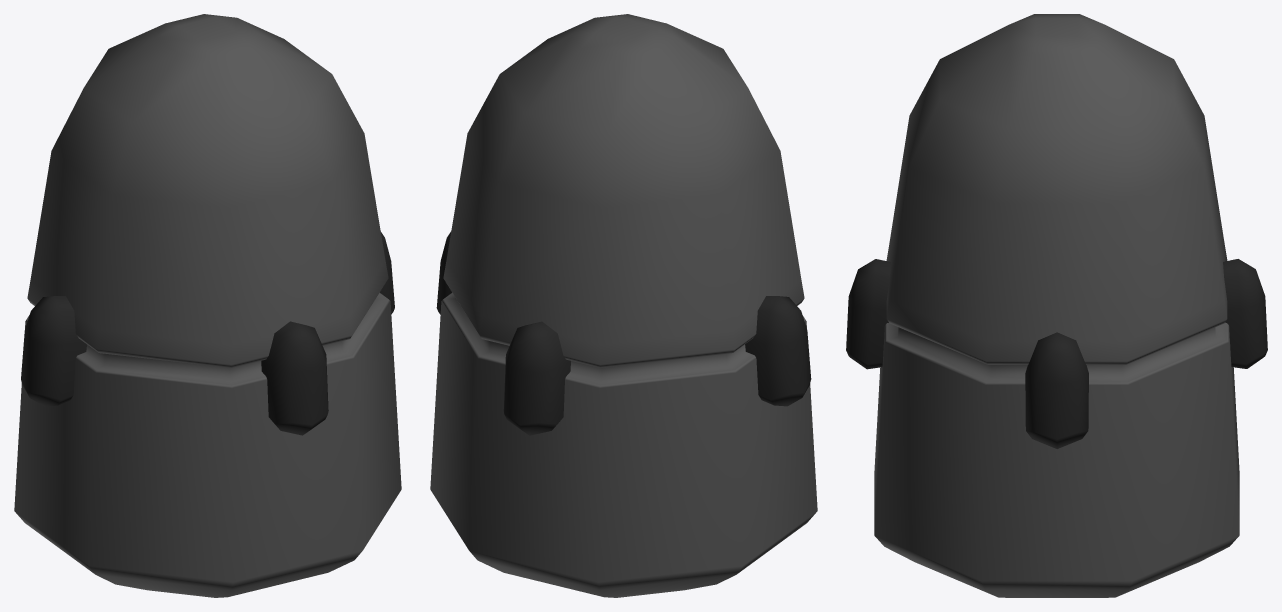
File: _Bullet_02.fbx
The picture shows the model from 3 angles, left to right: view 1: azimuth 30°, elevation 25°; view 2: azimuth 150°, elevation 25°; view 3: azimuth 270°, elevation 25°; orthographic projection.
Parts seen in each view (by area): view 1: Bullet_02; view 2: Bullet_02; view 3: Bullet_02.
Part boxes in pixels (bbox=[...]): Bullet_02: bbox=[14, 14, 401, 597]; Bullet_02: bbox=[430, 14, 817, 597]; Bullet_02: bbox=[846, 14, 1267, 597].
Size of the model in its own units: 37.26 by 52.17 by 37.26.
Materials: 1 (1 with a texture image).
